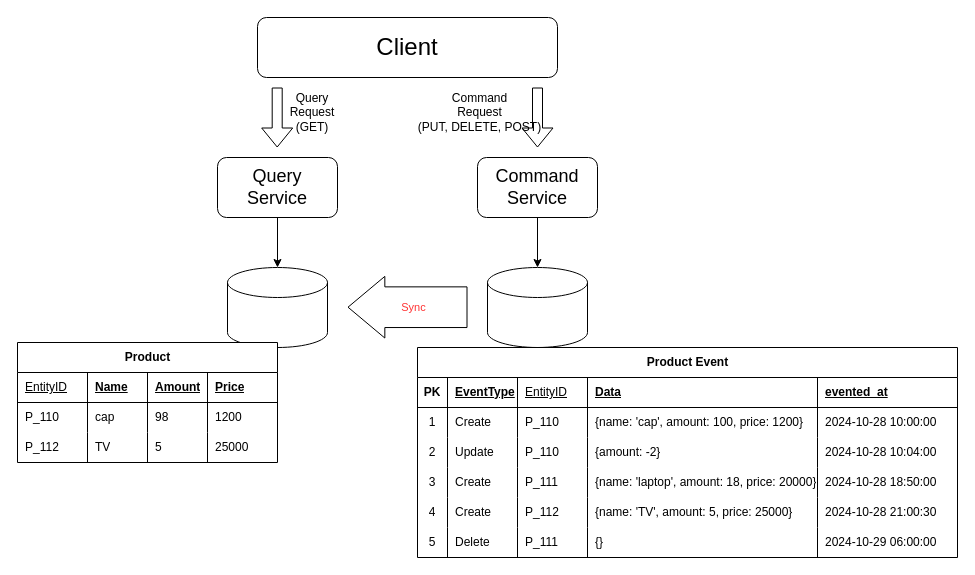
Image size: 975x575. Some labels were removed from this diagram. Each missing label, with the centre of its shape:
Command Database (Event Store): the point at 537,307
Query Database (Current State): the point at 277,307
